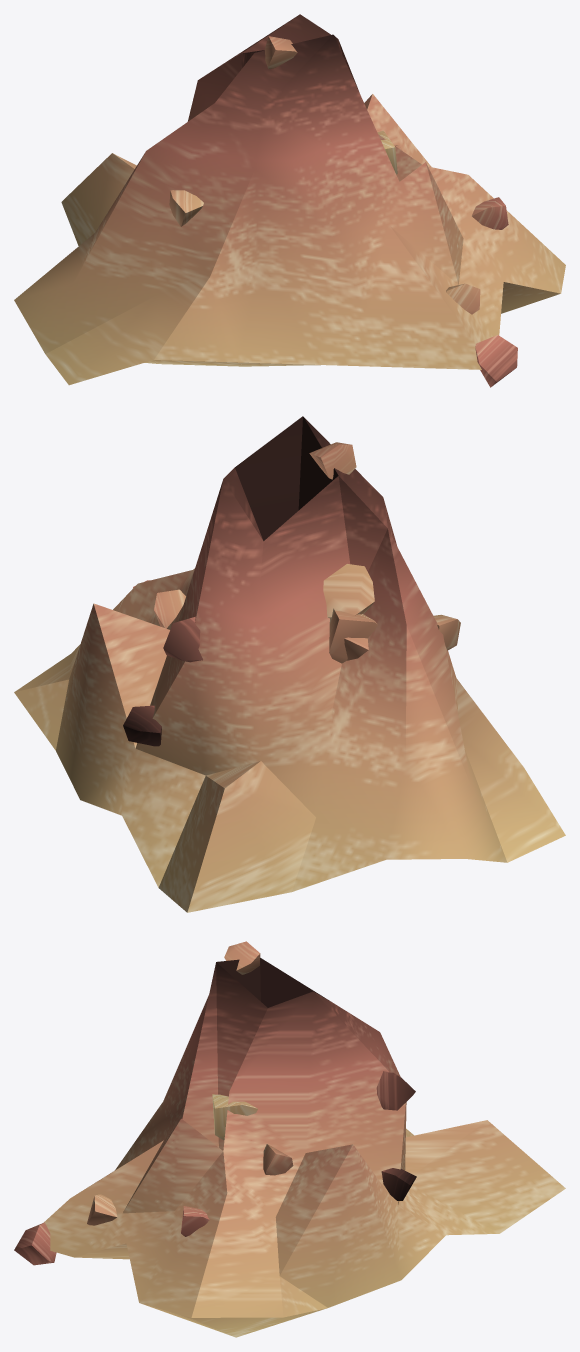
The model's file is BROWN_vent.fbx.
3 renders of one model, top to bottom at view 1: azimuth 30°, elevation 25°; view 2: azimuth 150°, elevation 25°; view 3: azimuth 270°, elevation 25°, orthographic. The views are drawn at different scales.
Parts seen in each view (by area): view 1: BROWN vent; view 2: BROWN vent; view 3: BROWN vent.
Part boxes in pixels (x1,y1,x2,y2): BROWN vent: (14, 14, 565, 387); BROWN vent: (14, 416, 565, 912); BROWN vent: (14, 941, 565, 1337).
Bounding box in the file's own units: 106098 × 70167 × 115611.
